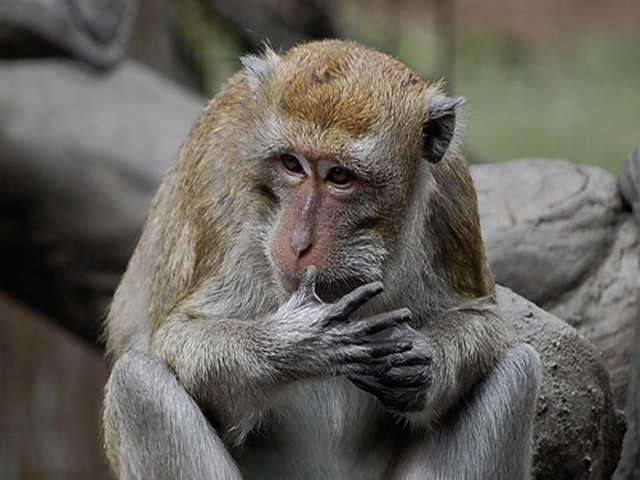Monkey: (99, 34, 544, 480)
